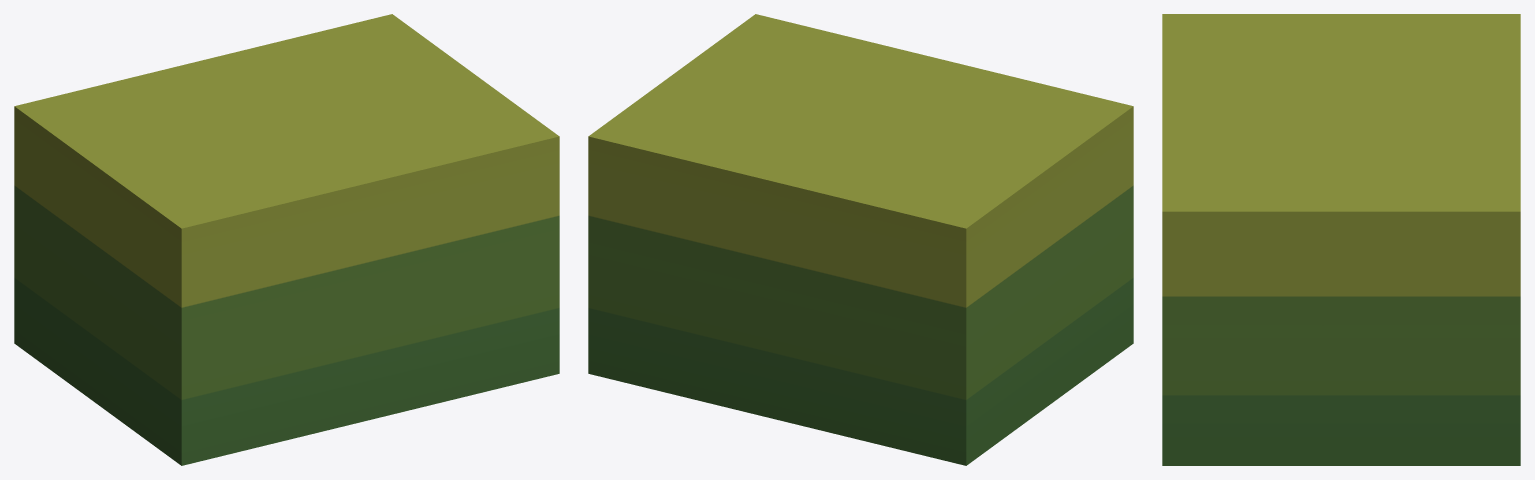
File: Hair034.fbx
3 views of the same model, side by side, from view 1: azimuth 30°, elevation 25°; view 2: azimuth 150°, elevation 25°; view 3: azimuth 270°, elevation 25° (orthographic). The views are drawn at different scales.
Visible parts, largest first — view 1: Hair034; view 2: Hair034; view 3: Hair034.
Part boxes in pixels (x1=…): Hair034: x1=14, y1=14, x2=559, y2=465; Hair034: x1=588, y1=14, x2=1133, y2=465; Hair034: x1=1162, y1=14, x2=1520, y2=465.
Bounding box in the file's own units: 30 × 20 × 23.
